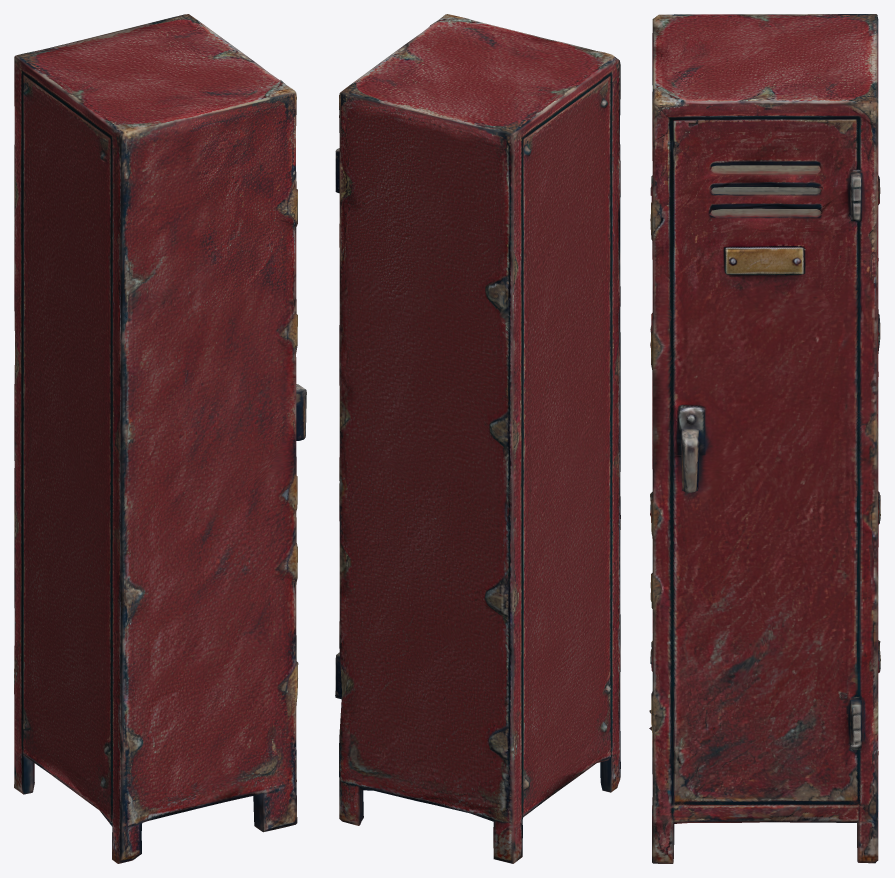
The model's file is SchoolLocker6.fbx.
3 renders of one model, left to right at view 1: azimuth 30°, elevation 25°; view 2: azimuth 150°, elevation 25°; view 3: azimuth 270°, elevation 25°, orthographic. The views are drawn at different scales.
Parts seen in each view (by area): view 1: tripo_node_5428b597-c661-4ea5-a75f-9a56a826a64d; view 2: tripo_node_5428b597-c661-4ea5-a75f-9a56a826a64d; view 3: tripo_node_5428b597-c661-4ea5-a75f-9a56a826a64d.
Part boxes in pixels (box(x1,y1,x2,y2)): tripo_node_5428b597-c661-4ea5-a75f-9a56a826a64d: box(14, 14, 306, 863); tripo_node_5428b597-c661-4ea5-a75f-9a56a826a64d: box(335, 14, 620, 863); tripo_node_5428b597-c661-4ea5-a75f-9a56a826a64d: box(649, 14, 880, 863).
Bounding box in the file's own units: 29.1 × 100 × 27.49.
Materials: 1 (1 with a texture image).
